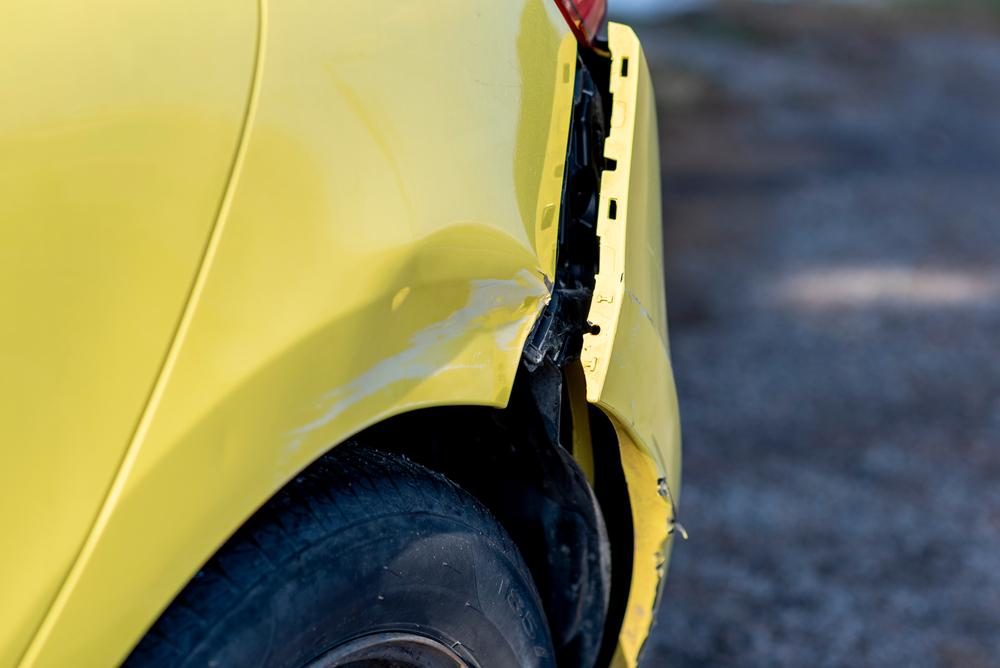dent: (286, 223, 546, 473)
